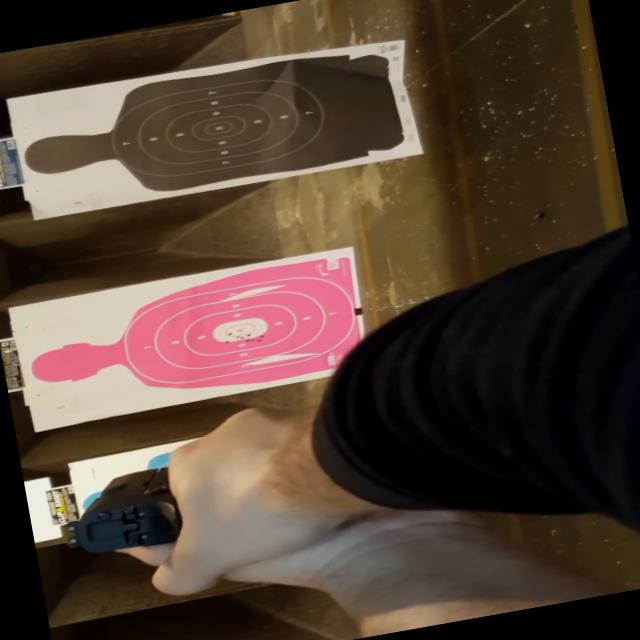handgun: (46, 436, 289, 559)
